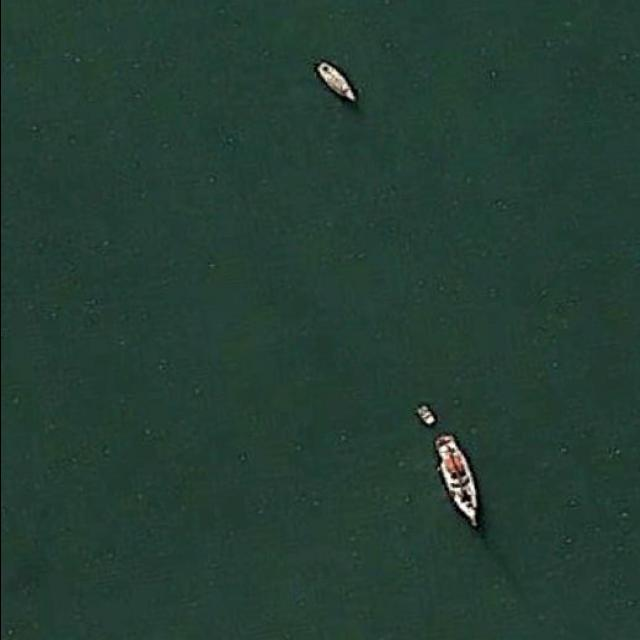ship: (433, 433, 480, 532), (314, 62, 357, 104), (413, 404, 437, 427)
